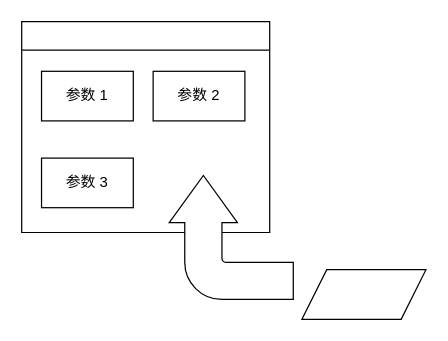
Image size: 448x341. Some labels were removed from this diagram. The box of each missing label's shape, as (x1, y1, x2, y2) in pixels:
功能执行: (301, 268, 426, 319)
请求设置: (20, 20, 270, 232)
